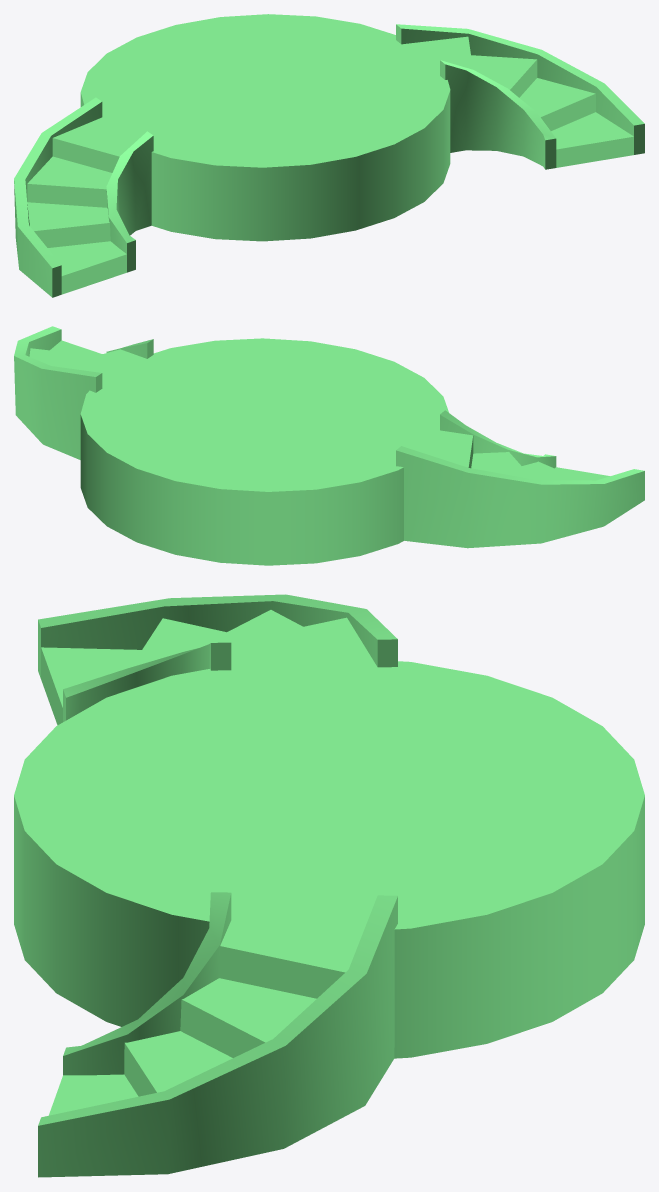
3 views of the same model, one above another, from view 1: azimuth 30°, elevation 25°; view 2: azimuth 150°, elevation 25°; view 3: azimuth 270°, elevation 25° (orthographic). The views are drawn at different scales.
Visible parts, largest first — view 1: 元件_017; view 2: 元件_017; view 3: 元件_017.
Part boxes in pixels (x1,y1,x2,y2): 元件_017: (14, 14, 644, 297); 元件_017: (14, 326, 644, 565); 元件_017: (14, 594, 644, 1177).
Bounding box in the file's own units: 348 × 50.3 × 183.
